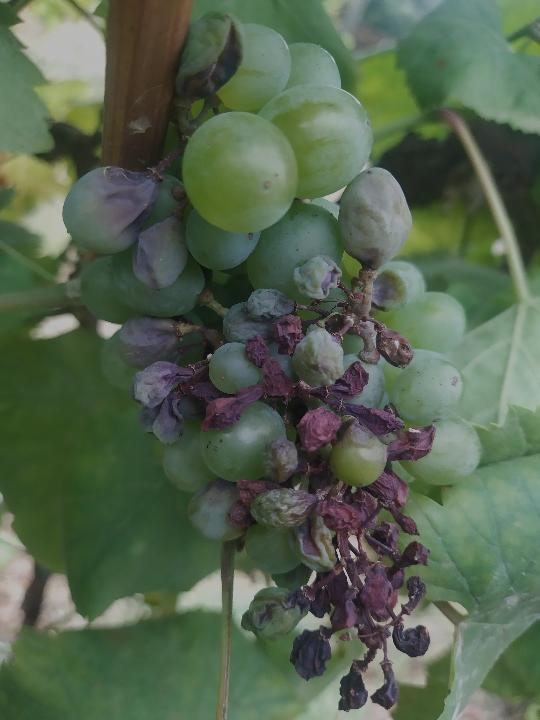grape: (60, 6, 485, 715)
